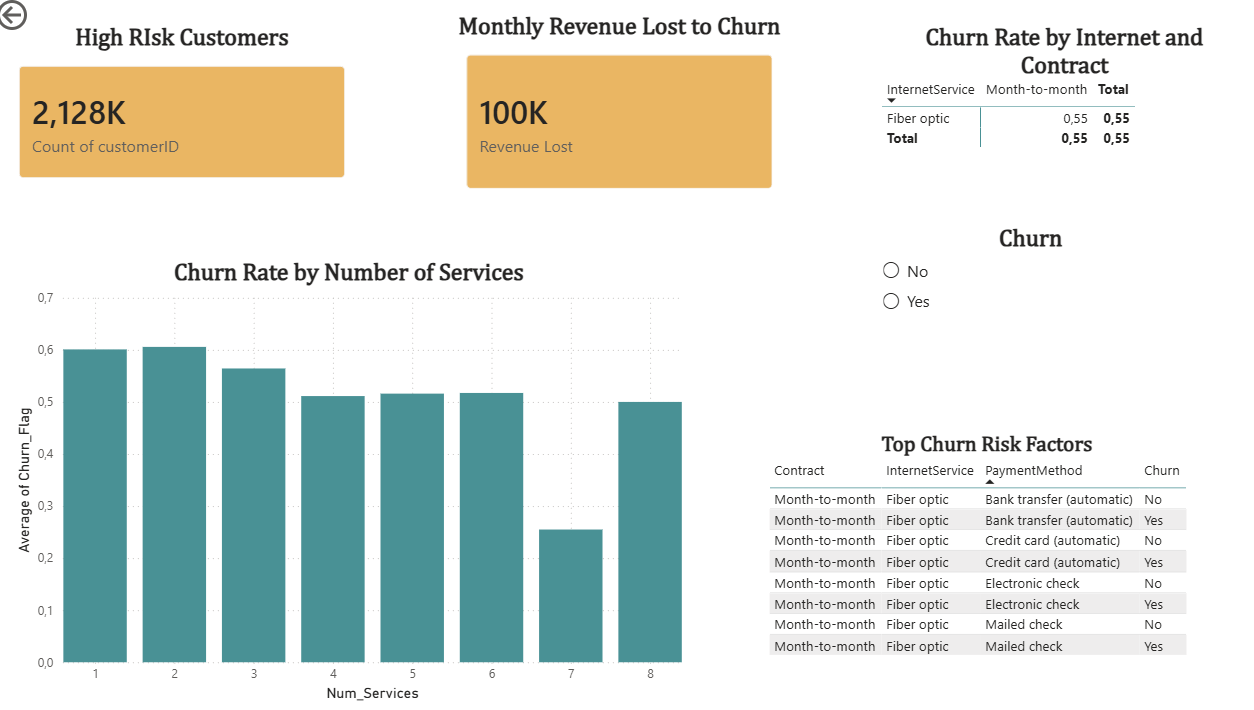

This screenshot's page, from the dashboard's own definition file:
{"tool":"powerbi","page":{"name":"Retention Insights and Recommendations","canvas":[1280,720],"ordinal":3},"visuals":[{"type":"cardVisual","title":"High RIsk Customers","fields":{"Data":["CountNonNull(cleaned_churn_data.customerID)"]},"box":[10,30,360,170],"z":0},{"type":"clusteredColumnChart","title":"Churn Rate by Number of Services","fields":{"Category":["cleaned_churn_data.Num_Services"],"Y":["Avg(cleaned_churn_data.Churn_Flag)"]},"box":[18.8,265,676.2,446.2],"z":1000},{"type":"pivotTable","title":"Churn Rate by Internet and Contract","fields":{"Rows":["cleaned_churn_data.InternetService"],"Columns":["cleaned_churn_data.Contract"],"Values":["Avg(cleaned_churn_data.Churn_Flag)"]},"box":[885,30,375,170],"z":2000},{"type":"tableEx","title":"Top Churn Risk Factors","fields":{"Values":["cleaned_churn_data.Contract","cleaned_churn_data.InternetService","cleaned_churn_data.PaymentMethod","cleaned_churn_data.Churn"]},"box":[771.2,437.5,447.5,273.8],"z":3000},{"type":"listSlicer","fields":{"Values":["cleaned_churn_data.Churn"]},"box":[885,231.2,307.5,147.5],"z":5000},{"type":"cardVisual","title":"Monthly Revenue Lost to Churn","fields":{"Data":["cleaned_churn_data.Revenue Lost"]},"box":[457.5,18.8,340,192.5],"z":6000}]}

Visuals, with their boxes in screenshot pixels (x1, y1, x2, y2), scaled from the page's 1280x720 canvas onto the 1254x710 screenshot:
"High RIsk Customers" cardVisual: 10 30 362 197
"Churn Rate by Number of Services" clusteredColumnChart: 18 261 681 701
"Churn Rate by Internet and Contract" pivotTable: 867 30 1234 197
"Top Churn Risk Factors" tableEx: 756 431 1194 701
listSlicer - cleaned_churn_data.Churn: 867 228 1168 373
"Monthly Revenue Lost to Churn" cardVisual: 448 19 781 208
